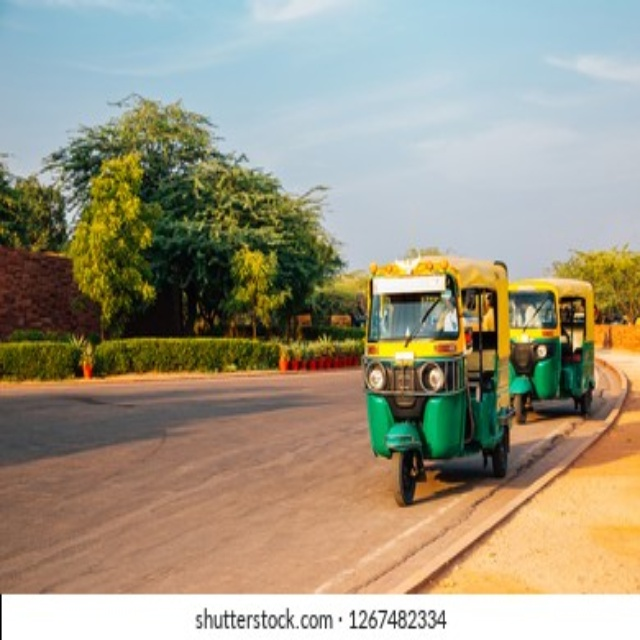Motorcycle: (361, 261, 512, 510), (507, 277, 597, 423)
